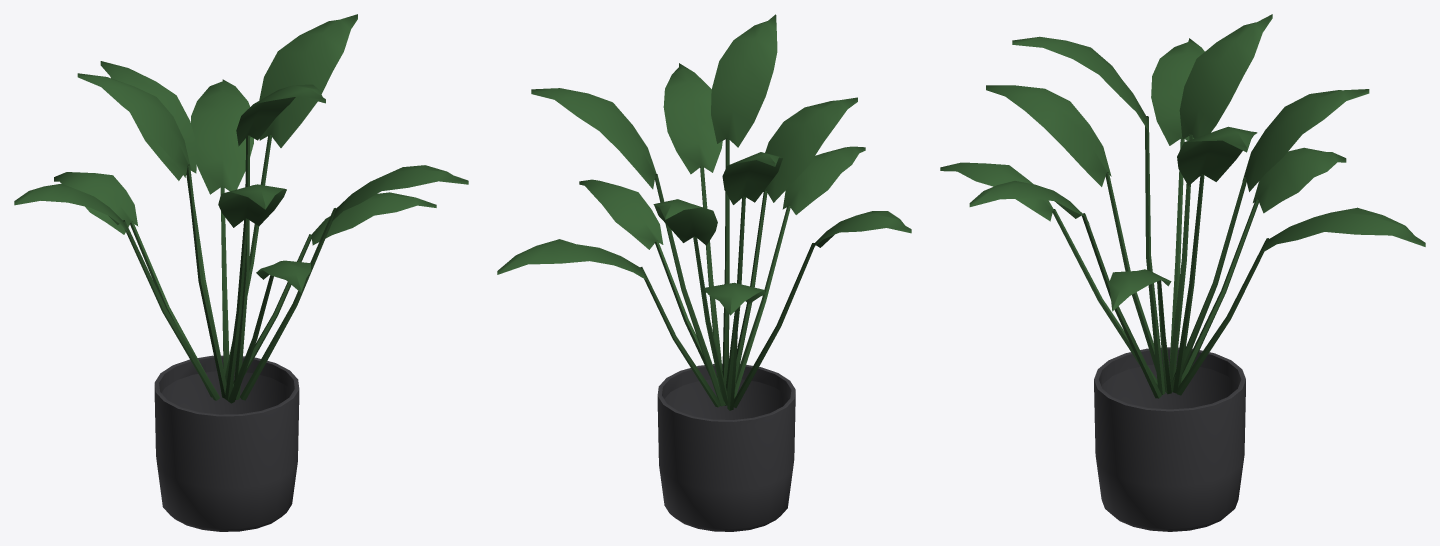
The model's file is decor_b_plant_floor.gltf.
3 renders of one model, left to right at view 1: azimuth 30°, elevation 25°; view 2: azimuth 150°, elevation 25°; view 3: azimuth 270°, elevation 25°, orthographic. The views are drawn at different scales.
Visible parts, largest first — view 1: DecorBPlantFloor_Leaf_NoCollide, DecorBPlantFloor_CeramicCharcoal; view 2: DecorBPlantFloor_Leaf_NoCollide, DecorBPlantFloor_CeramicCharcoal; view 3: DecorBPlantFloor_Leaf_NoCollide, DecorBPlantFloor_CeramicCharcoal.
Boxes of the visible parts, left/top/right/bottom form: DecorBPlantFloor_Leaf_NoCollide: left=14, top=14, right=468, bottom=403; DecorBPlantFloor_CeramicCharcoal: left=154, top=355, right=299, bottom=531; DecorBPlantFloor_Leaf_NoCollide: left=497, top=14, right=911, bottom=410; DecorBPlantFloor_CeramicCharcoal: left=657, top=363, right=795, bottom=531; DecorBPlantFloor_Leaf_NoCollide: left=940, top=14, right=1425, bottom=398; DecorBPlantFloor_CeramicCharcoal: left=1094, top=347, right=1245, bottom=531.
Size of the model in its own units: 1.47 by 1.67 by 1.53.
